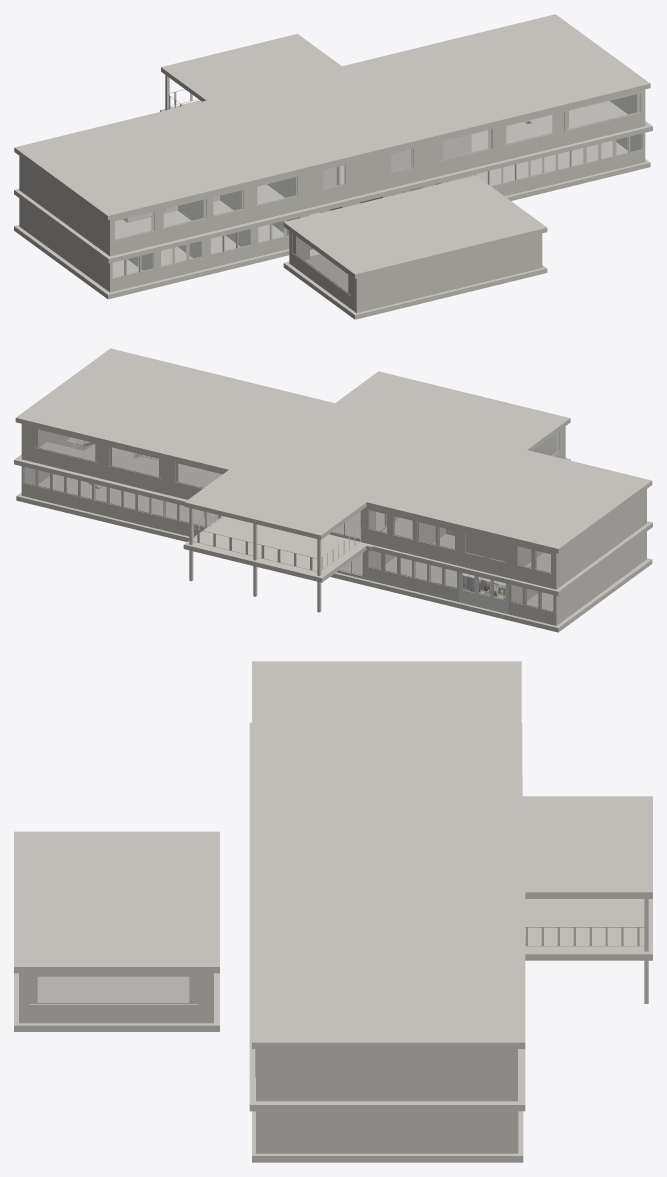
The model's file is kacyber_walk.glb.
3 renders of one model, top to bottom at view 1: azimuth 30°, elevation 25°; view 2: azimuth 150°, elevation 25°; view 3: azimuth 270°, elevation 25°, orthographic. The views are drawn at different scales.
Parts seen in each view (by area): view 1: BEYOND_L2_SLAB, BEYOND_L1_WALL, BEYOND_L0_WALL, BEYOND_L0_SLAB, BEYOND_L1_SLAB, BEYOND_L1_GLASS, BEYOND_L0_GLASS, BEYOND_L1_FRAME, UPPER_in_zone, BEYOND_L0_FRAME, BEYOND_L1_OTHER, BEYOND_L0_OTHER; view 2: BEYOND_L2_SLAB, BEYOND_L1_SLAB, BEYOND_L1_WALL, BEYOND_L0_WALL, BEYOND_L0_SLAB, BEYOND_L1_GLASS, BEYOND_L0_GLASS, UPPER_in_zone, BEYOND_L0_FRAME, BEYOND_L1_FRAME, BAKE_wall_north, BEYOND_L1_OTHER (+6 smaller); view 3: BEYOND_L2_SLAB, BEYOND_L0_WALL, BEYOND_L1_WALL, BEYOND_L1_SLAB, BEYOND_L0_SLAB, BEYOND_L0_GLASS, UPPER_in_zone, BEYOND_L0_FRAME.
Boxes of the visible parts, bbox=[...] form: BEYOND_L2_SLAB: bbox=[14, 14, 650, 278]; BEYOND_L1_WALL: bbox=[19, 89, 645, 256]; BEYOND_L0_WALL: bbox=[19, 133, 645, 313]; BEYOND_L0_SLAB: bbox=[14, 122, 650, 319]; BEYOND_L1_SLAB: bbox=[14, 100, 652, 263]; BEYOND_L1_GLASS: bbox=[115, 94, 636, 238]; BEYOND_L0_GLASS: bbox=[113, 134, 641, 291]; BEYOND_L1_FRAME: bbox=[113, 93, 640, 240]; UPPER_in_zone: bbox=[67, 123, 153, 162]; BEYOND_L0_FRAME: bbox=[112, 134, 642, 295]; BEYOND_L1_OTHER: bbox=[112, 89, 641, 240]; BEYOND_L0_OTHER: bbox=[124, 133, 642, 295]; BEYOND_L2_SLAB: bbox=[15, 348, 652, 553]; BEYOND_L1_SLAB: bbox=[14, 442, 652, 596]; BEYOND_L1_WALL: bbox=[21, 424, 646, 589]; BEYOND_L0_WALL: bbox=[21, 426, 646, 625]; BEYOND_L0_SLAB: bbox=[16, 444, 652, 632]; BEYOND_L1_GLASS: bbox=[38, 429, 550, 572]; BEYOND_L0_GLASS: bbox=[24, 434, 555, 610]; UPPER_in_zone: bbox=[458, 496, 544, 577]; BEYOND_L0_FRAME: bbox=[23, 431, 558, 611]; BEYOND_L1_FRAME: bbox=[34, 428, 551, 573]; BAKE_wall_north: bbox=[458, 572, 508, 614]; BEYOND_L1_OTHER: bbox=[34, 428, 551, 573]; BEYOND_L2_SLAB: bbox=[14, 661, 652, 1048]; BEYOND_L0_WALL: bbox=[19, 973, 518, 1153]; BEYOND_L1_WALL: bbox=[256, 1049, 517, 1101]; BEYOND_L1_SLAB: bbox=[249, 722, 652, 1111]; BEYOND_L0_SLAB: bbox=[14, 775, 523, 1162]; BEYOND_L0_GLASS: bbox=[38, 977, 188, 1002]; UPPER_in_zone: bbox=[412, 697, 517, 732]; BEYOND_L0_FRAME: bbox=[29, 976, 197, 1003].
Bounding box in the file's own units: 38.22 × 5.6 × 27.
11 materials, 8 textured.
